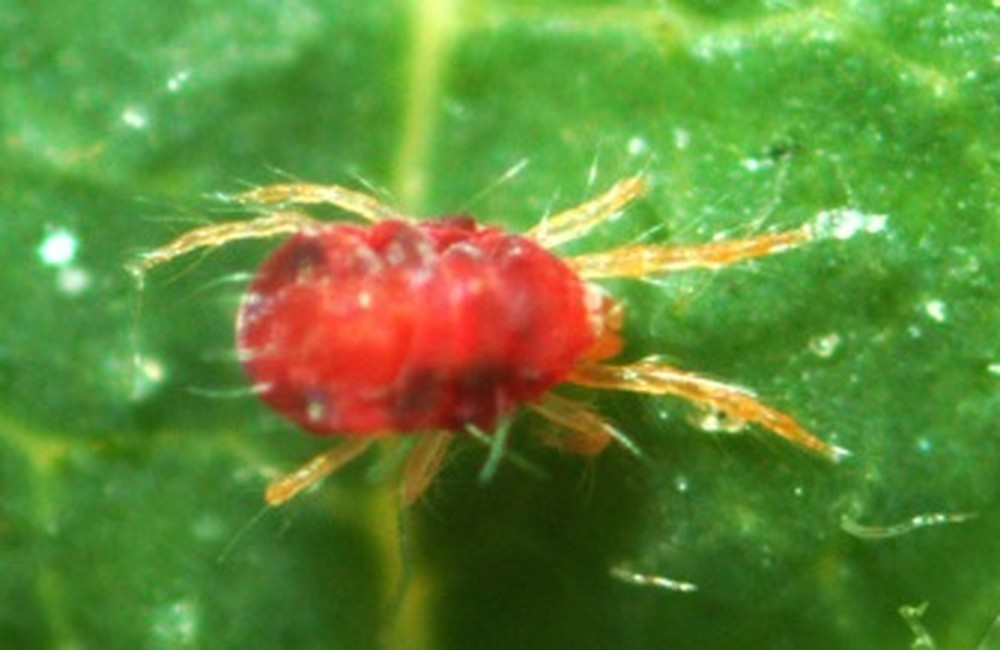Aracnido Rojo: (127, 149, 867, 501)
